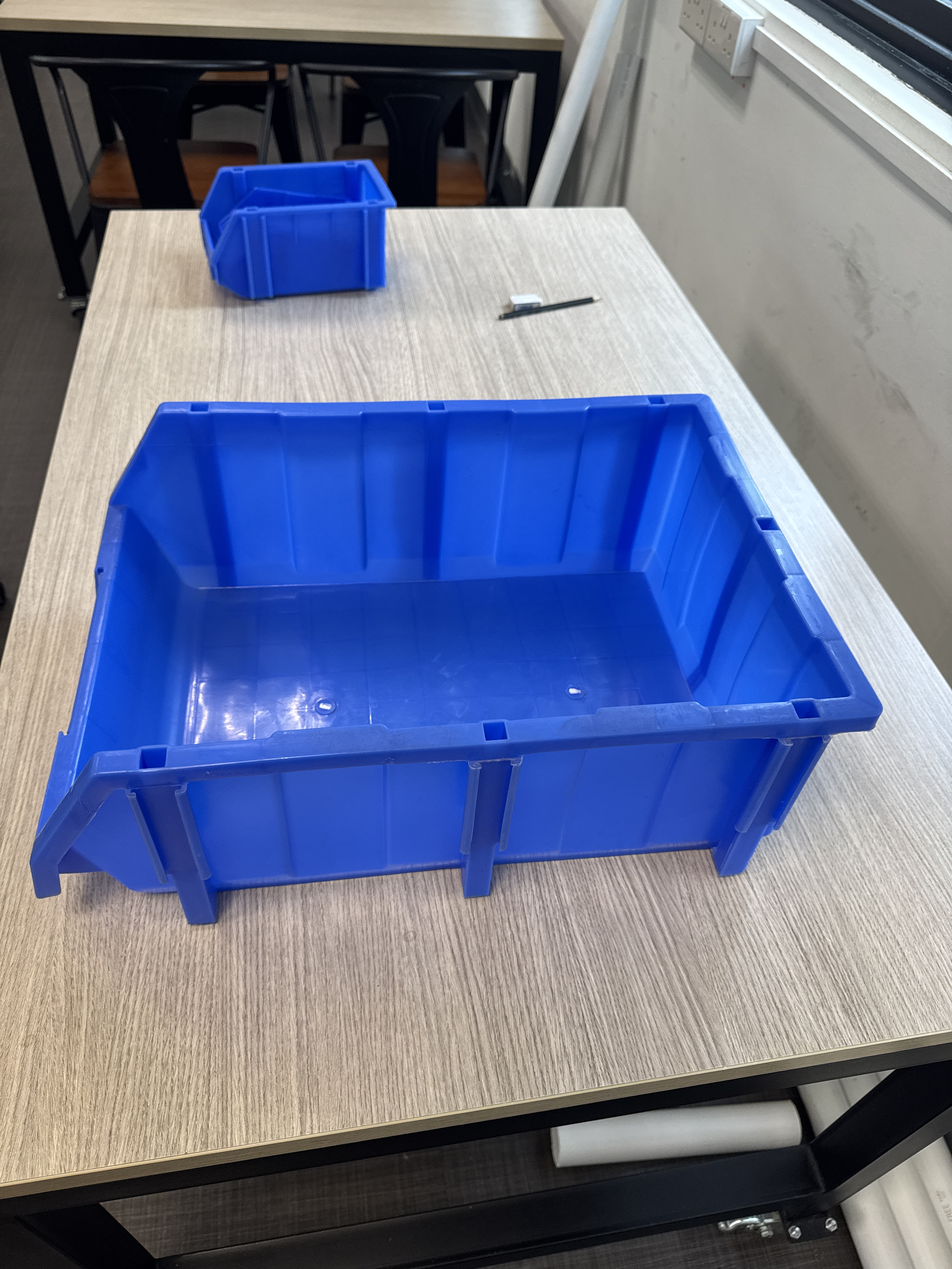Bin Boundary: (53, 407, 847, 804)
